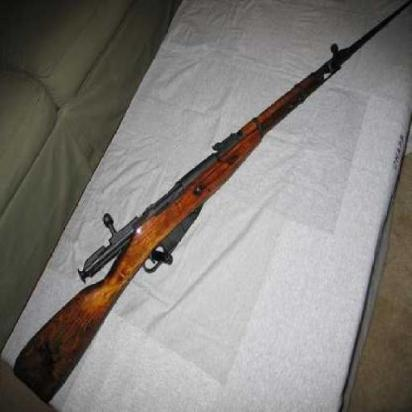Gun: (0, 51, 348, 411)
